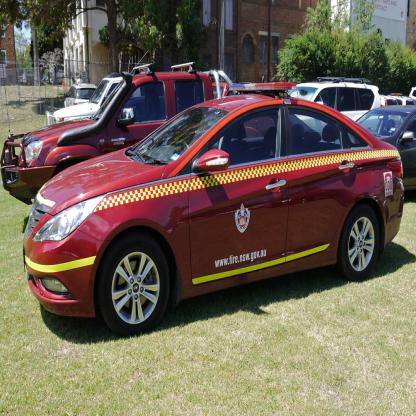Car: (0, 54, 416, 341)
